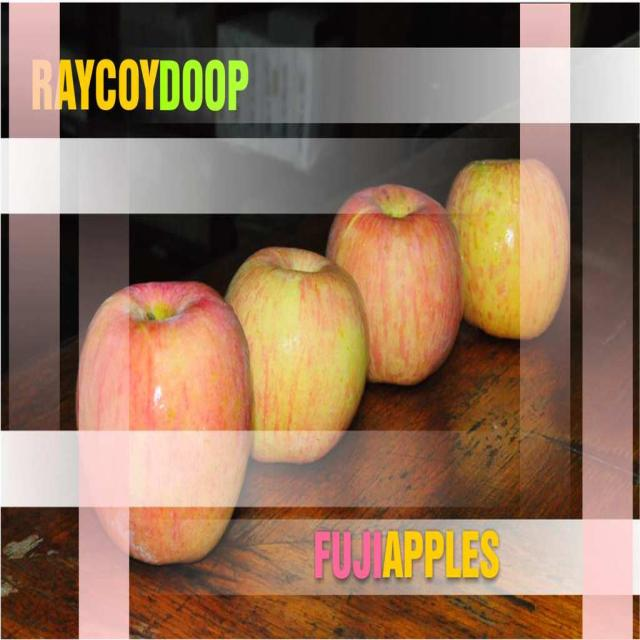Healty Apple: (72, 268, 254, 558), (223, 245, 372, 464), (324, 186, 466, 388), (446, 158, 570, 343)
